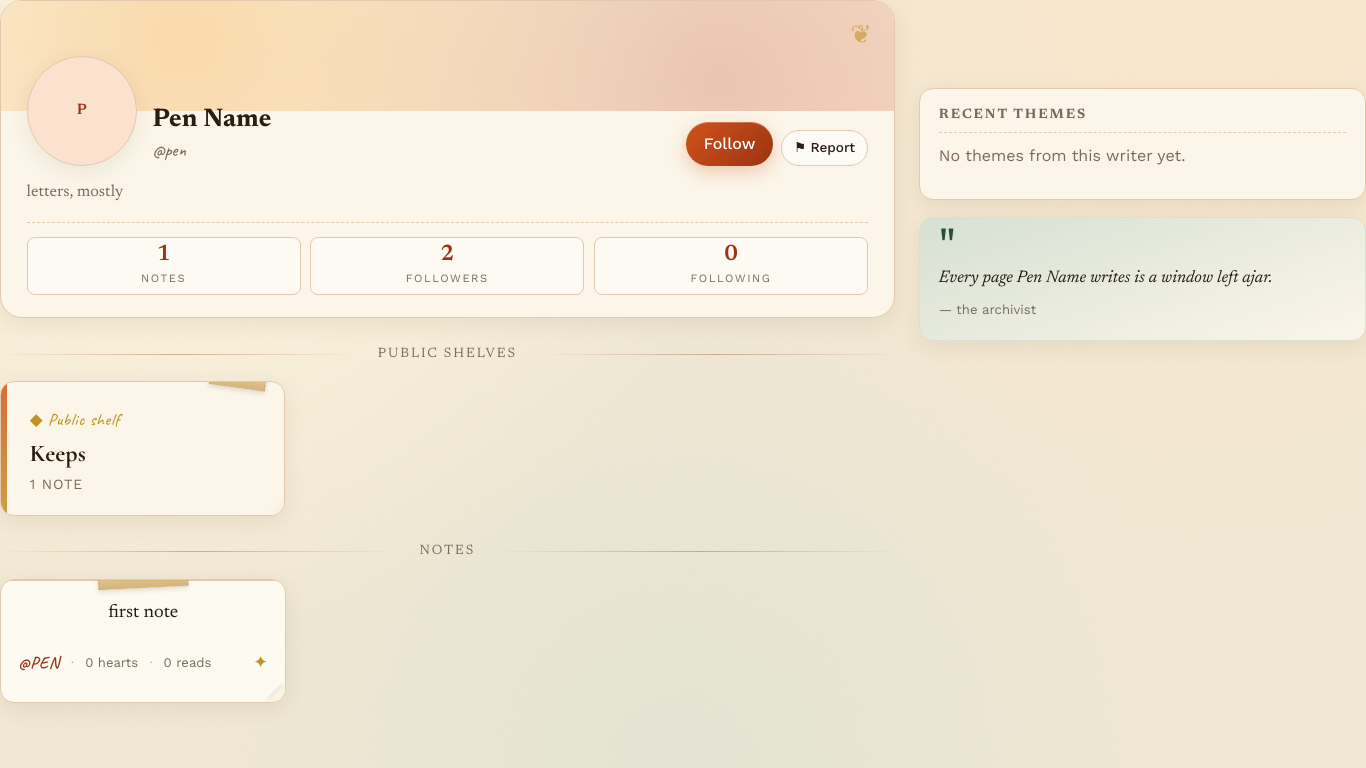
Test: UserProfile › lets a signed-in visitor follow, updating the button and follower count
Expected: the text "2" is shown, [440,244,454,266]
Click the button "Follow" at coordinates (730, 144), box [686,122,773,166]
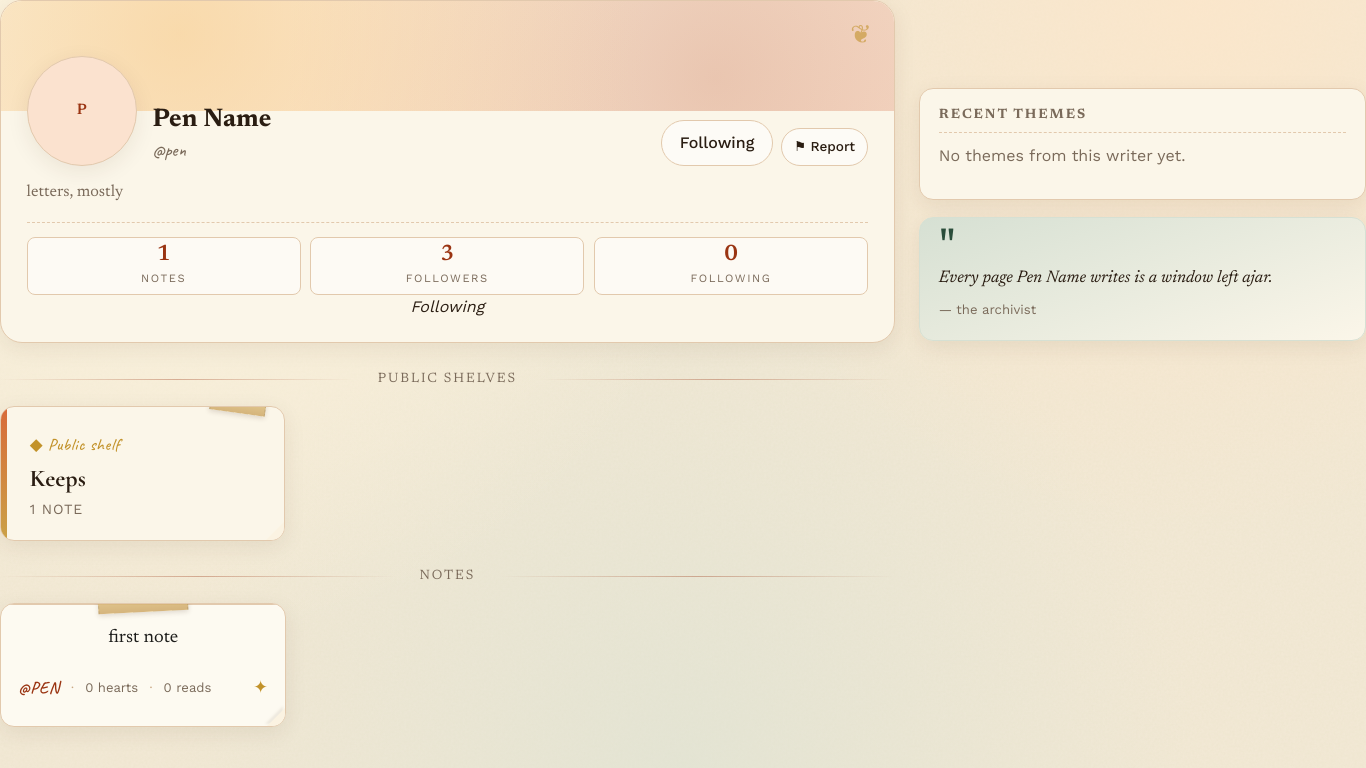
Expected: the button "⚑ Report" is shown, [781,128,868,166]
Expected: the button "Following" is shown, [661,120,773,166]
Expected: the text "3" is shown, [440,244,454,266]
